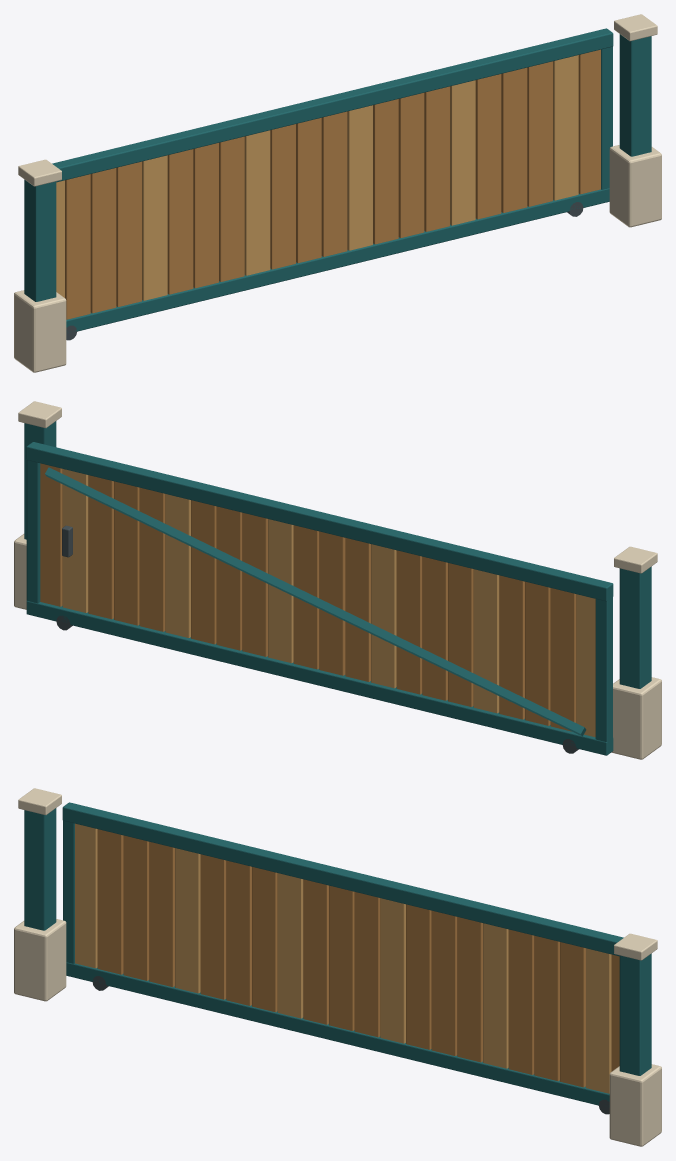
Rendered from sliding-gate-8m.glb.
3 renders of one model, top to bottom at view 1: azimuth 30°, elevation 25°; view 2: azimuth 150°, elevation 25°; view 3: azimuth 330°, elevation 25°, orthographic.
Visible parts, largest first — view 1: sliding-gate-leaf-gate-leaf-timber-wood, sliding-gate-leaf-gate-leaf-timber-teal, sliding-gate-leaf-gate-leaf-timber-wood-light, sliding-gate-8m-frame-timber-cream, sliding-gate-8m-frame-timber-teal; view 2: sliding-gate-leaf-gate-leaf-timber-wood, sliding-gate-leaf-gate-leaf-timber-teal, sliding-gate-leaf-gate-leaf-timber-wood-light, sliding-gate-8m-frame-timber-cream, sliding-gate-8m-frame-timber-teal, sliding-gate-leaf-gate-leaf-timber-metal; view 3: sliding-gate-leaf-gate-leaf-timber-wood, sliding-gate-leaf-gate-leaf-timber-wood-light, sliding-gate-leaf-gate-leaf-timber-teal, sliding-gate-8m-frame-timber-cream, sliding-gate-8m-frame-timber-teal.
Boxes of the visible parts, x1,y1,x2,y2 form: sliding-gate-leaf-gate-leaf-timber-wood: (65,49,600,319); sliding-gate-leaf-gate-leaf-timber-teal: (52,28,613,332); sliding-gate-leaf-gate-leaf-timber-wood-light: (56,55,578,300); sliding-gate-8m-frame-timber-cream: (14,14,661,372); sliding-gate-8m-frame-timber-teal: (24,34,651,301); sliding-gate-leaf-gate-leaf-timber-wood: (40,463,576,731); sliding-gate-leaf-gate-leaf-timber-teal: (26,442,613,755); sliding-gate-leaf-gate-leaf-timber-wood-light: (62,469,595,737); sliding-gate-8m-frame-timber-cream: (14,401,661,759); sliding-gate-8m-frame-timber-teal: (24,421,651,688); sliding-gate-leaf-gate-leaf-timber-metal: (56,525,578,753); sliding-gate-leaf-gate-leaf-timber-wood: (97,829,619,1087); sliding-gate-leaf-gate-leaf-timber-wood-light: (75,823,611,1093); sliding-gate-leaf-gate-leaf-timber-teal: (62,802,623,1107); sliding-gate-8m-frame-timber-cream: (14,788,661,1146); sliding-gate-8m-frame-timber-teal: (24,808,651,1075).
Size of the model in its own units: 8.45 by 2.49 by 0.87.
